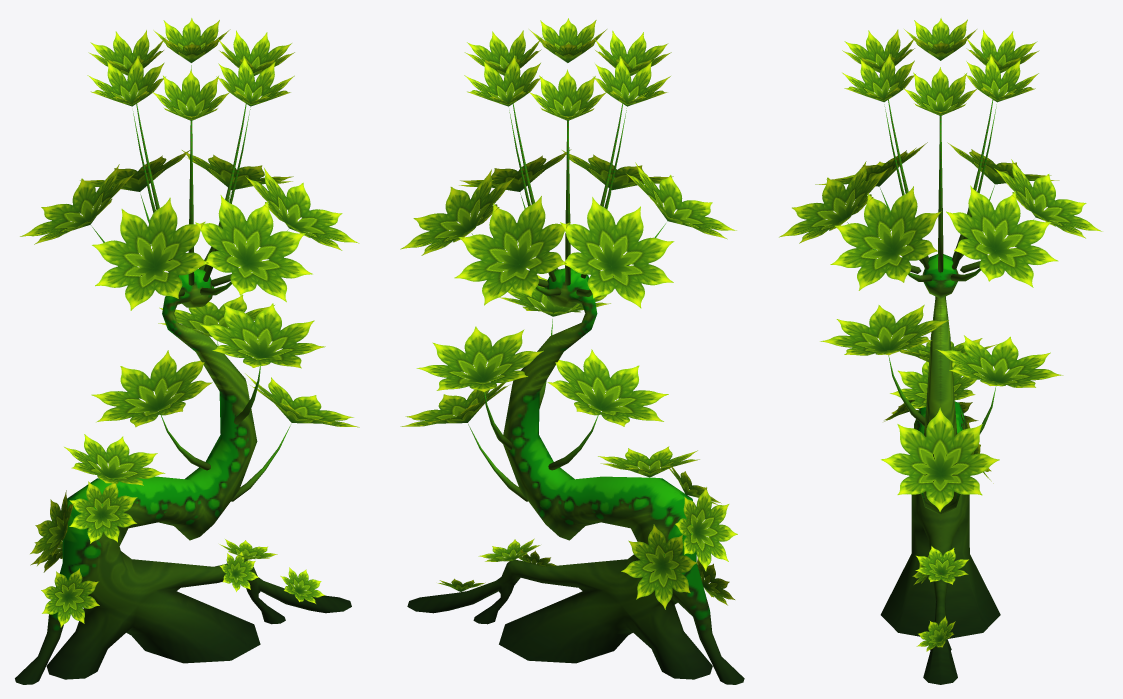
File: Green_Tree_04b.FBX
3 renders of one model, left to right at view 1: azimuth 30°, elevation 25°; view 2: azimuth 150°, elevation 25°; view 3: azimuth 270°, elevation 25°, orthographic. The views are drawn at different scales.
Parts seen in each view (by area): view 1: Green_Tree_04b; view 2: Green_Tree_04b; view 3: Green_Tree_04b.
Part boxes in pixels (bbox=[...]): Green_Tree_04b: bbox=[15, 18, 359, 684]; Green_Tree_04b: bbox=[400, 18, 744, 684]; Green_Tree_04b: bbox=[779, 18, 1102, 684].
Bounding box in the file's own units: 264 × 430 × 234.
